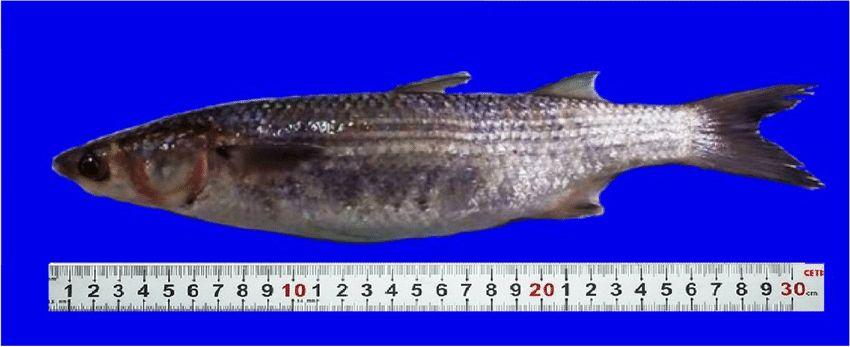Mullet: (52, 67, 828, 244)
